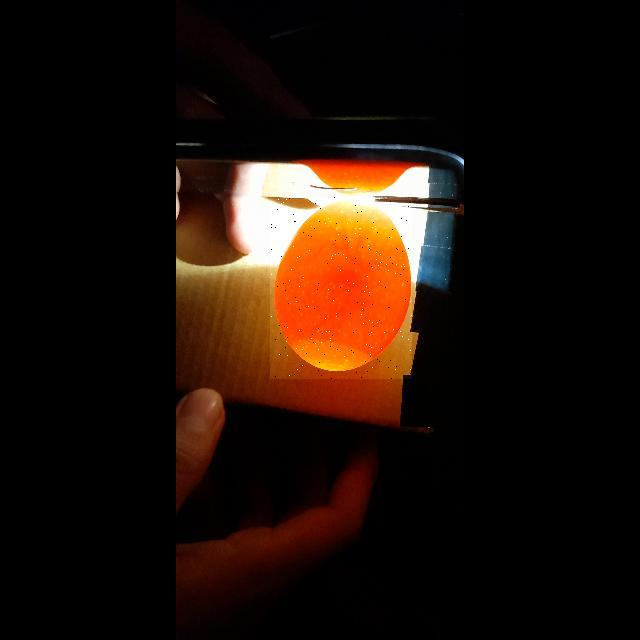Fertile: (270, 197, 412, 379)
